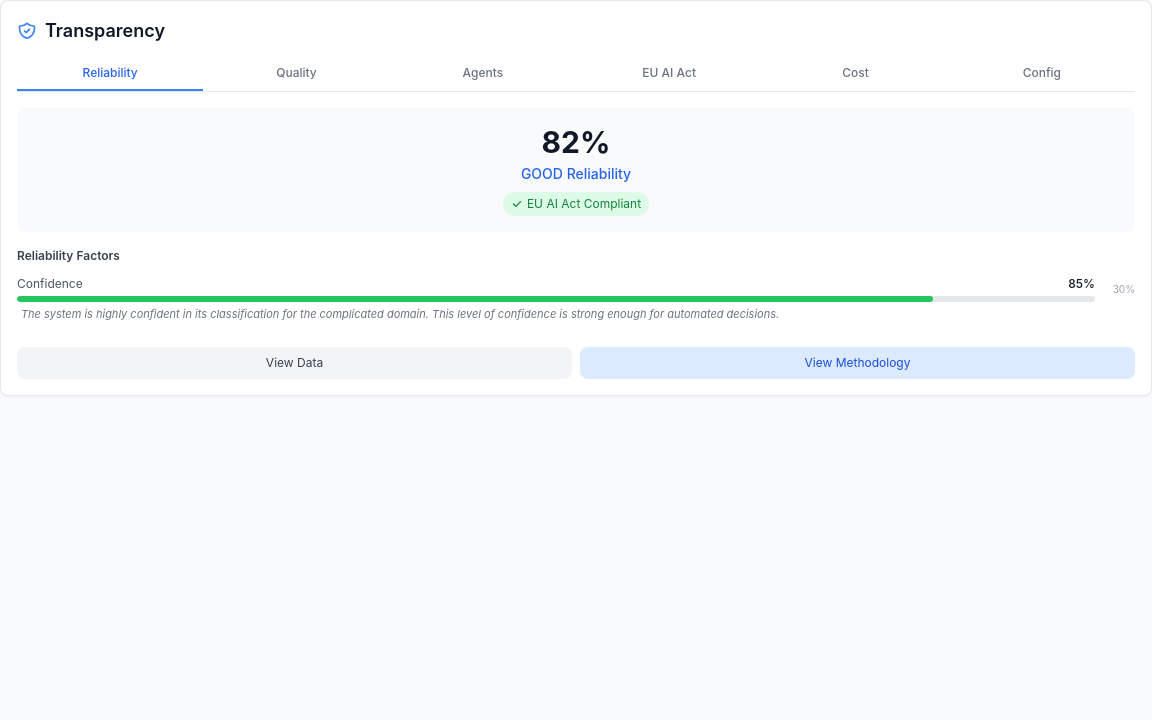
Scenario: DataModal -- dataset info rendering › renders loaded dataset info in data modal when View Data is clicked
Note: Wait for reliability to load and show the View Data button
Click the button "View Data". click: (294, 362)
box: [17,346,572,378]
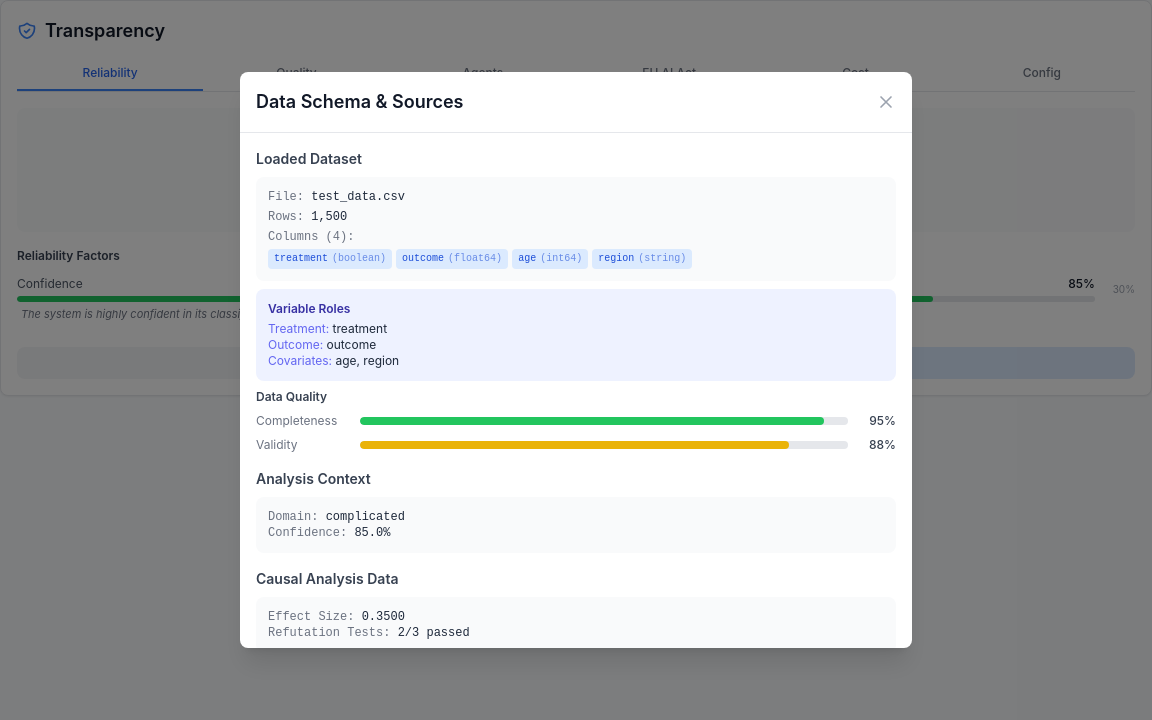
Expected: the heading "Data Schema & Sources" is shown, [256,88,464,116]
Expected: the heading "Loaded Dataset" is shown, [256,150,362,167]
Expected: the text "Rows: 1,500" is shown, [268,210,347,224]
